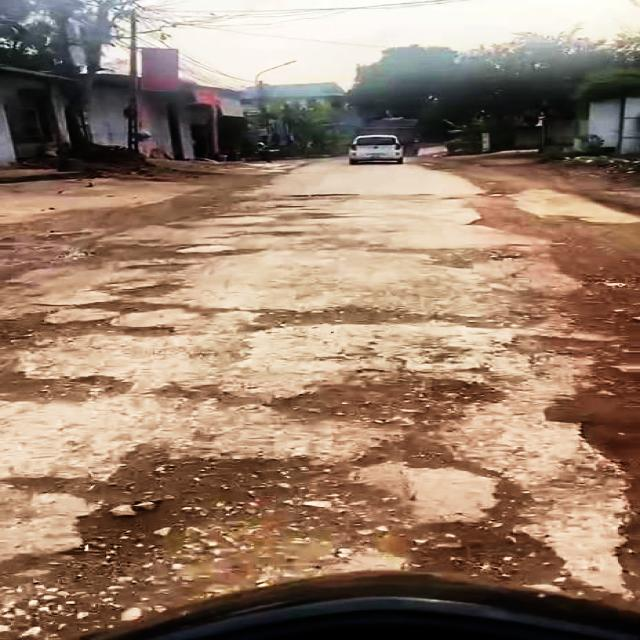pothole: (0, 437, 563, 624), (263, 369, 505, 428), (0, 277, 215, 341), (550, 384, 640, 471), (0, 359, 143, 405), (242, 303, 420, 330), (510, 331, 632, 366)
